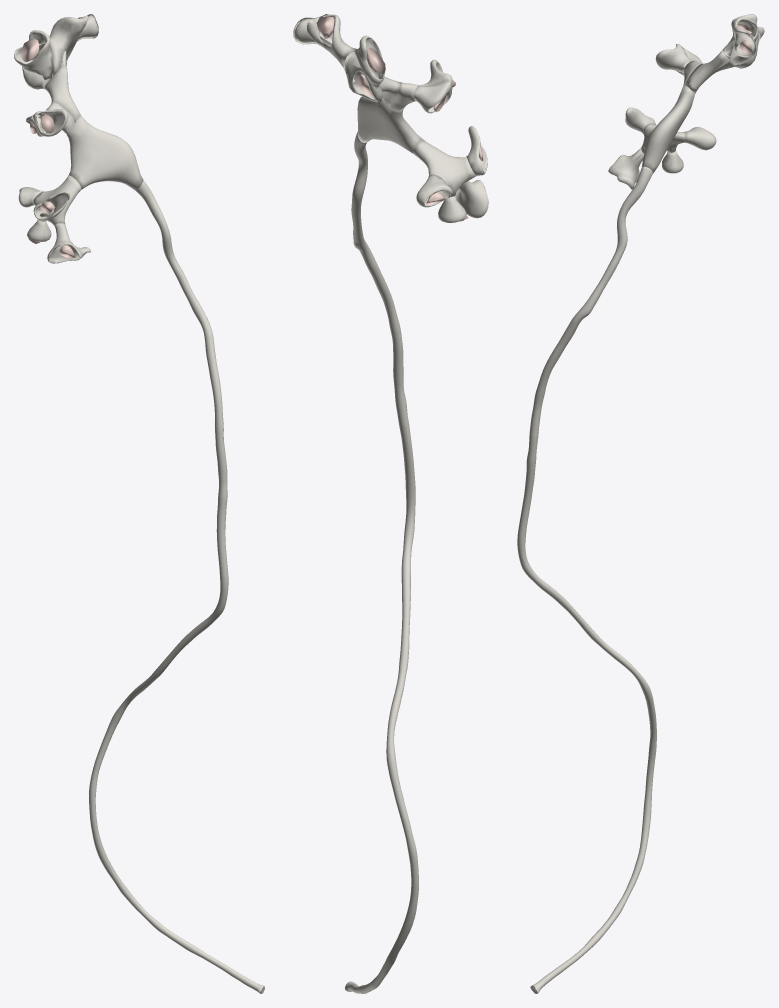
The model's file is vh_f_ureter_r-40.glb.
The picture shows the model from 3 angles, left to right: view 1: azimuth 30°, elevation 25°; view 2: azimuth 150°, elevation 25°; view 3: azimuth 270°, elevation 25°; orthographic projection. The views are drawn at different scales.
Parts seen in each view (by area): view 1: VH_F_right_ureter, VH_F_renal_pelvis_R, VH_F_minor_calyx_R_b, VH_F_minor_calyx_R_d, VH_F_major_calyx_R_a, VH_F_major_calyx_R_c, VH_F_minor_calyx_R_j, VH_F_minor_calyx_R_f; view 2: VH_F_right_ureter, VH_F_renal_pelvis_R, VH_F_major_calyx_R_c, VH_F_minor_calyx_R_b, VH_F_minor_calyx_R_j, VH_F_minor_calyx_R_c, VH_F_minor_calyx_R_e, VH_F_minor_calyx_R_d, VH_F_minor_calyx_R_g, VH_F_minor_calyx_R_i, VH_F_minor_calyx_R_h, VH_F_major_calyx_R_b (+1 smaller); view 3: VH_F_right_ureter, VH_F_renal_pelvis_R, VH_F_minor_calyx_R_j, VH_F_major_calyx_R_a, VH_F_minor_calyx_R_f, VH_F_minor_calyx_R_b.
Part boxes in pixels (<box>): VH_F_right_ureter: <box>89,180,264,993</box>; VH_F_renal_pelvis_R: <box>67,116,143,190</box>; VH_F_minor_calyx_R_b: <box>49,15,87,76</box>; VH_F_minor_calyx_R_d: <box>14,30,53,79</box>; VH_F_major_calyx_R_a: <box>44,66,80,122</box>; VH_F_major_calyx_R_c: <box>33,175,81,225</box>; VH_F_minor_calyx_R_j: <box>47,223,90,263</box>; VH_F_minor_calyx_R_f: <box>33,109,68,136</box>; VH_F_right_ureter: <box>345,131,418,993</box>; VH_F_renal_pelvis_R: <box>357,96,422,153</box>; VH_F_major_calyx_R_c: <box>413,139,475,196</box>; VH_F_minor_calyx_R_b: <box>306,14,356,81</box>; VH_F_minor_calyx_R_j: <box>455,180,488,218</box>; VH_F_minor_calyx_R_c: <box>344,51,382,102</box>; VH_F_minor_calyx_R_e: <box>414,81,452,113</box>; VH_F_minor_calyx_R_d: <box>354,35,384,88</box>; VH_F_minor_calyx_R_g: <box>416,174,452,207</box>; VH_F_minor_calyx_R_i: <box>466,126,487,176</box>; VH_F_minor_calyx_R_h: <box>438,196,466,222</box>; VH_F_major_calyx_R_b: <box>390,82,418,110</box>; VH_F_right_ureter: <box>517,166,656,993</box>; VH_F_renal_pelvis_R: <box>641,85,694,173</box>; VH_F_minor_calyx_R_j: <box>608,147,644,189</box>; VH_F_major_calyx_R_a: <box>684,49,735,94</box>; VH_F_minor_calyx_R_f: <box>655,44,690,73</box>; VH_F_minor_calyx_R_b: <box>724,18,758,64</box>.
Size of the model in its own units: 0.0518 by 0.2627 by 0.0632.
